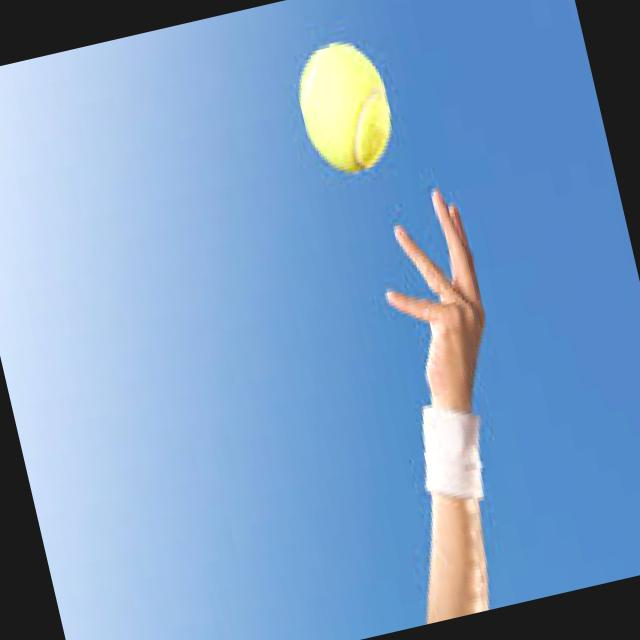tennis-ball: (287, 34, 402, 182)
